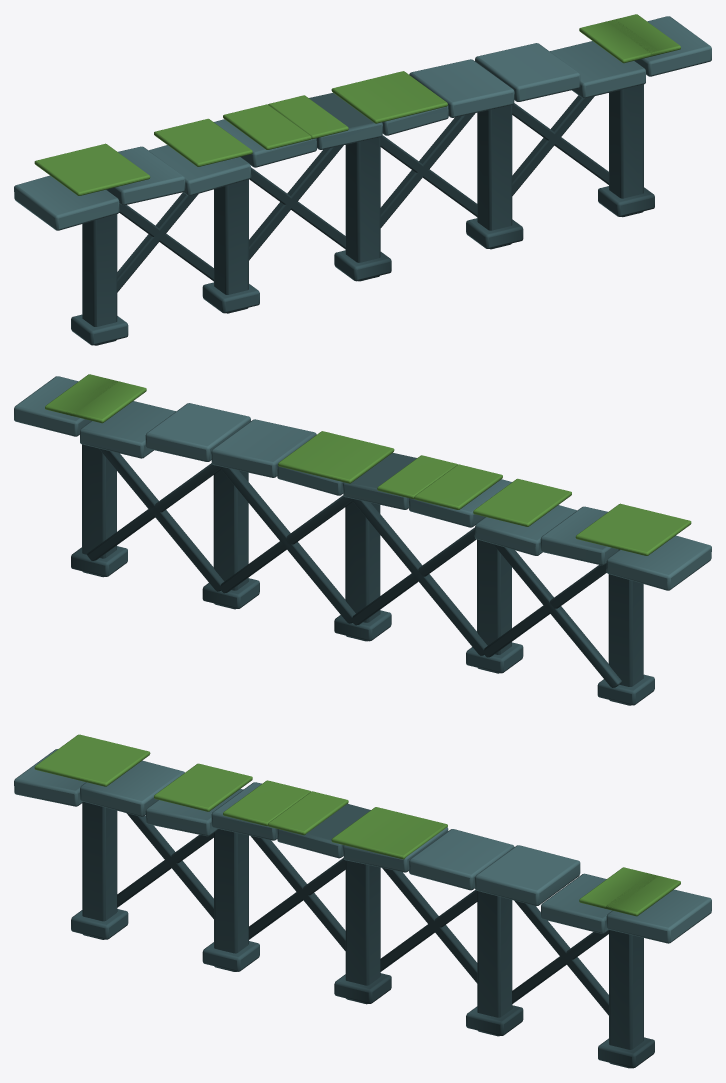
The model's file is ruin_pier.glb.
3 renders of one model, top to bottom at view 1: azimuth 30°, elevation 25°; view 2: azimuth 150°, elevation 25°; view 3: azimuth 330°, elevation 25°, orthographic.
Visible parts, largest first — view 1: ruin_pier_mesh; view 2: ruin_pier_mesh; view 3: ruin_pier_mesh.
Boxes of the visible parts, x1,y1,x2,y2 form: ruin_pier_mesh: (14, 14, 711, 345); ruin_pier_mesh: (14, 374, 711, 705); ruin_pier_mesh: (14, 734, 711, 1068).
Bounding box in the file's own units: 13.96 × 3.52 × 1.64.
